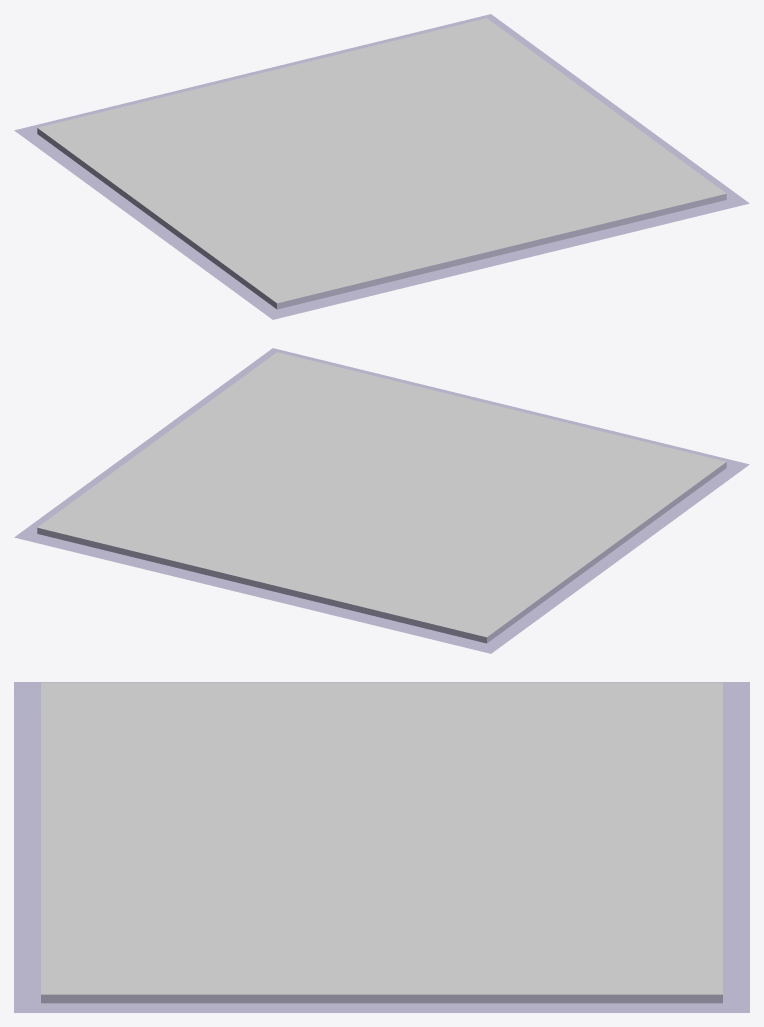
Rendered from CeilingTilePlain.fbx.
3 renders of one model, top to bottom at view 1: azimuth 30°, elevation 25°; view 2: azimuth 150°, elevation 25°; view 3: azimuth 270°, elevation 25°, orthographic. The views are drawn at different scales.
Visible parts, largest first — view 1: CeilignTilesPlain; view 2: CeilignTilesPlain; view 3: CeilignTilesPlain.
Part boxes in pixels (box(x1,y1,x2,y2)): CeilignTilesPlain: box(14, 14, 749, 319); CeilignTilesPlain: box(14, 348, 749, 653); CeilignTilesPlain: box(14, 682, 749, 1012).
Bounding box in the file's own units: 280 × 3.51 × 263.
